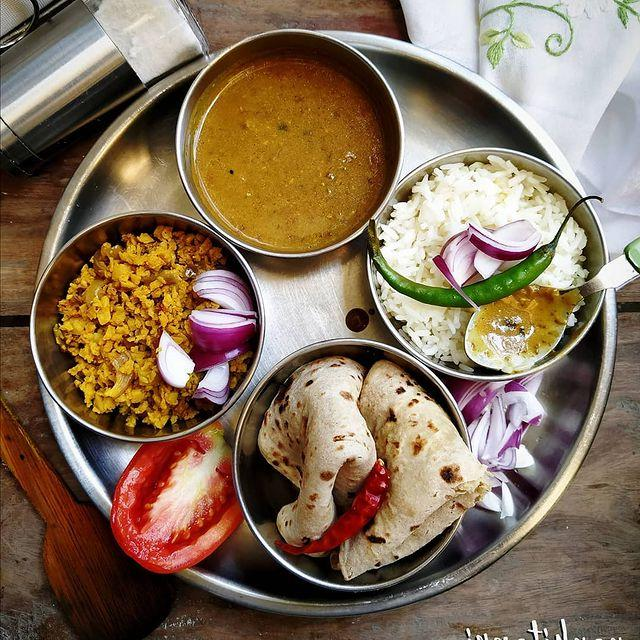Roti: (236, 334, 483, 576)
White Rice: (367, 164, 619, 384)
